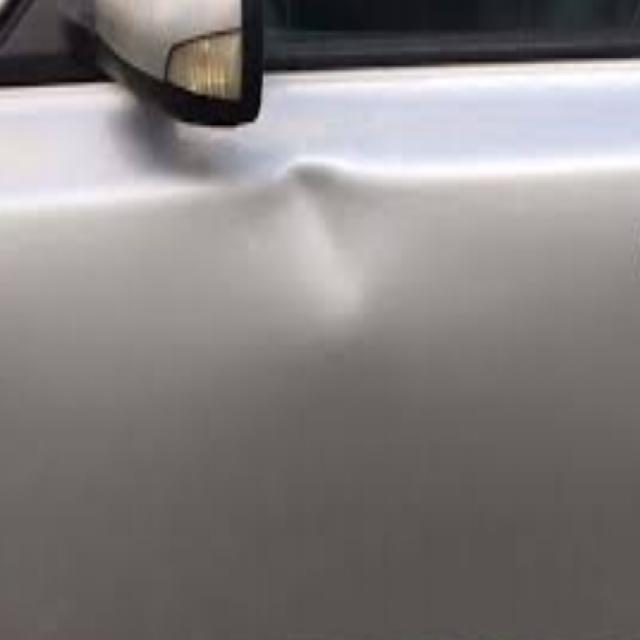dents: (282, 145, 377, 294)
